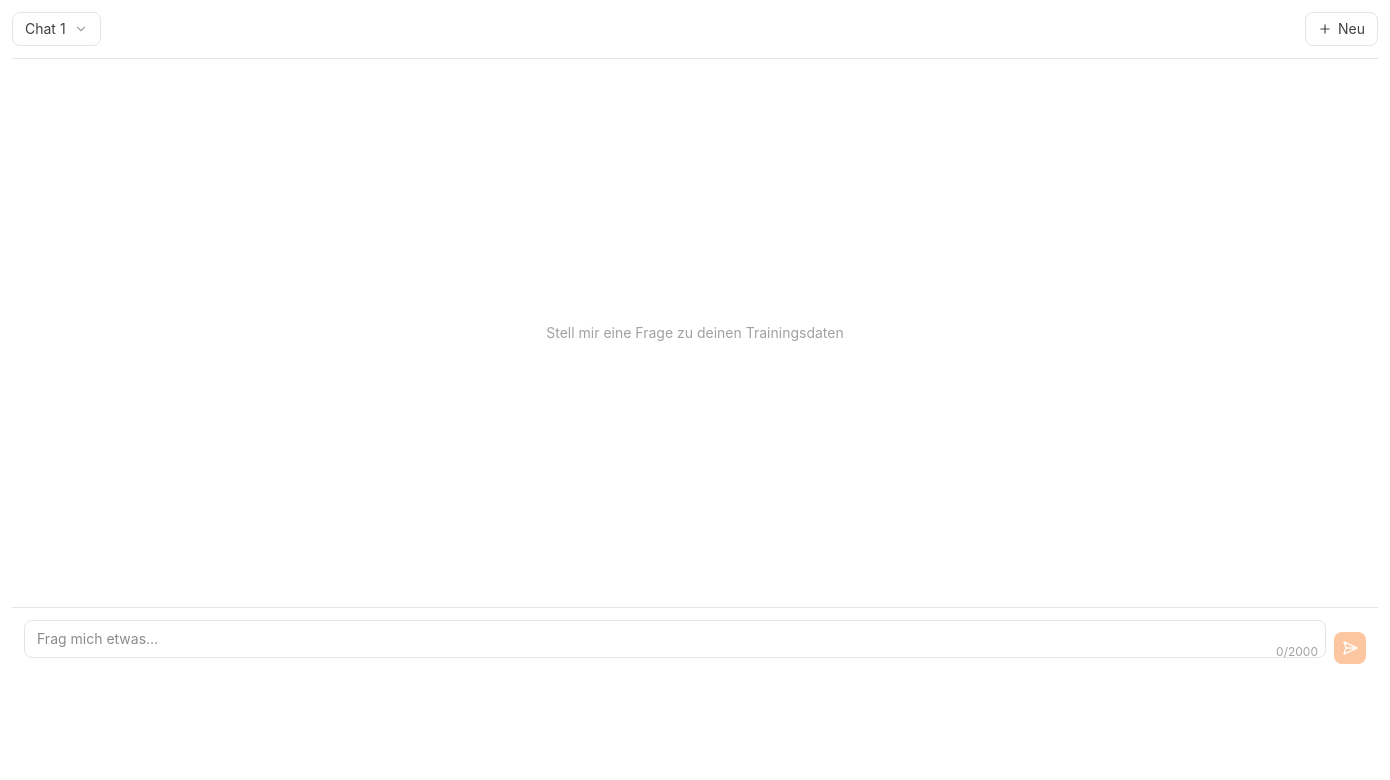
Test: ChatPage › shows loaded tools as a compact expandable summary
The width and height of the screenshot is (1390, 780).
In the text box with placeholder "Frag mich etwas…": (675, 639) [24,620,1326,658], type "Existiert ein Segment mit einem frei gewaehlten Testnamen?"
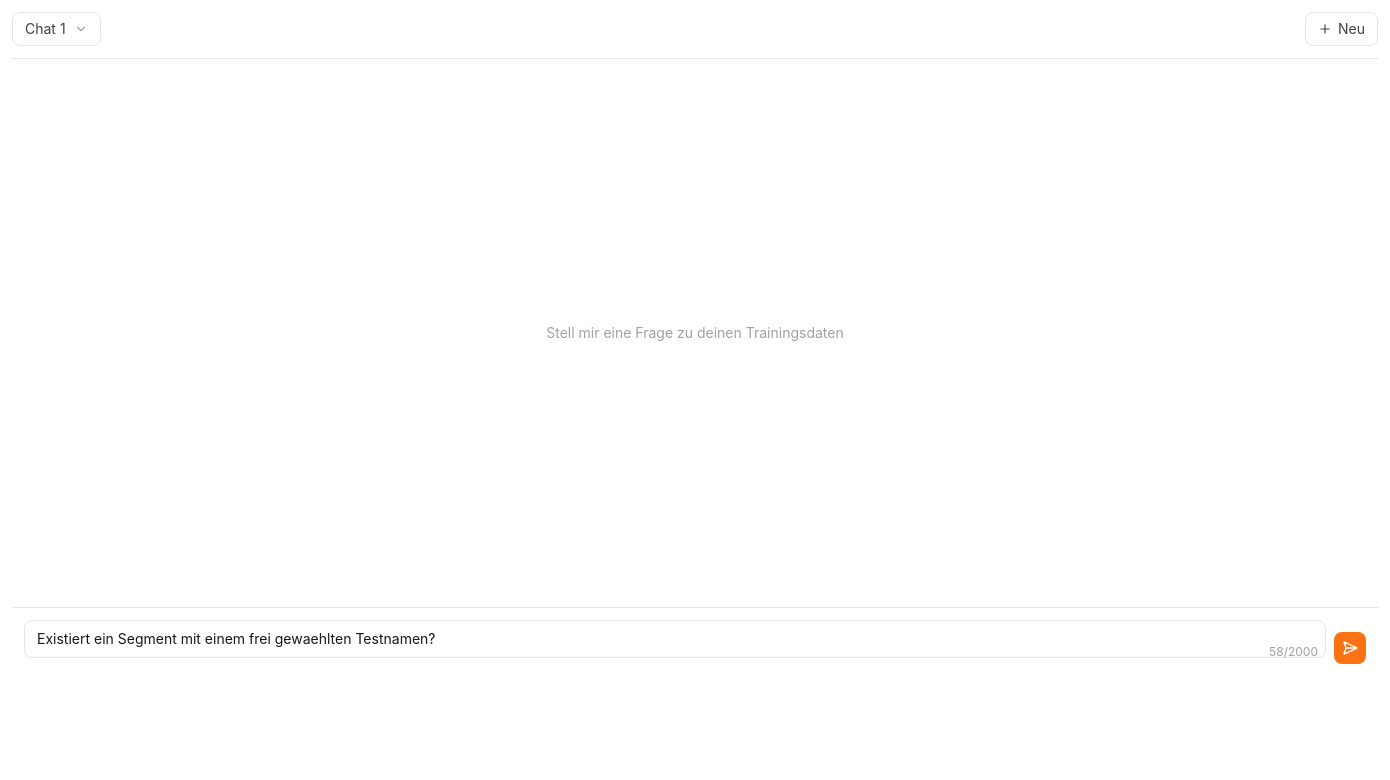
Press Enter in the text box with placeholder "Frag mich etwas…", box [24,620,1326,658]
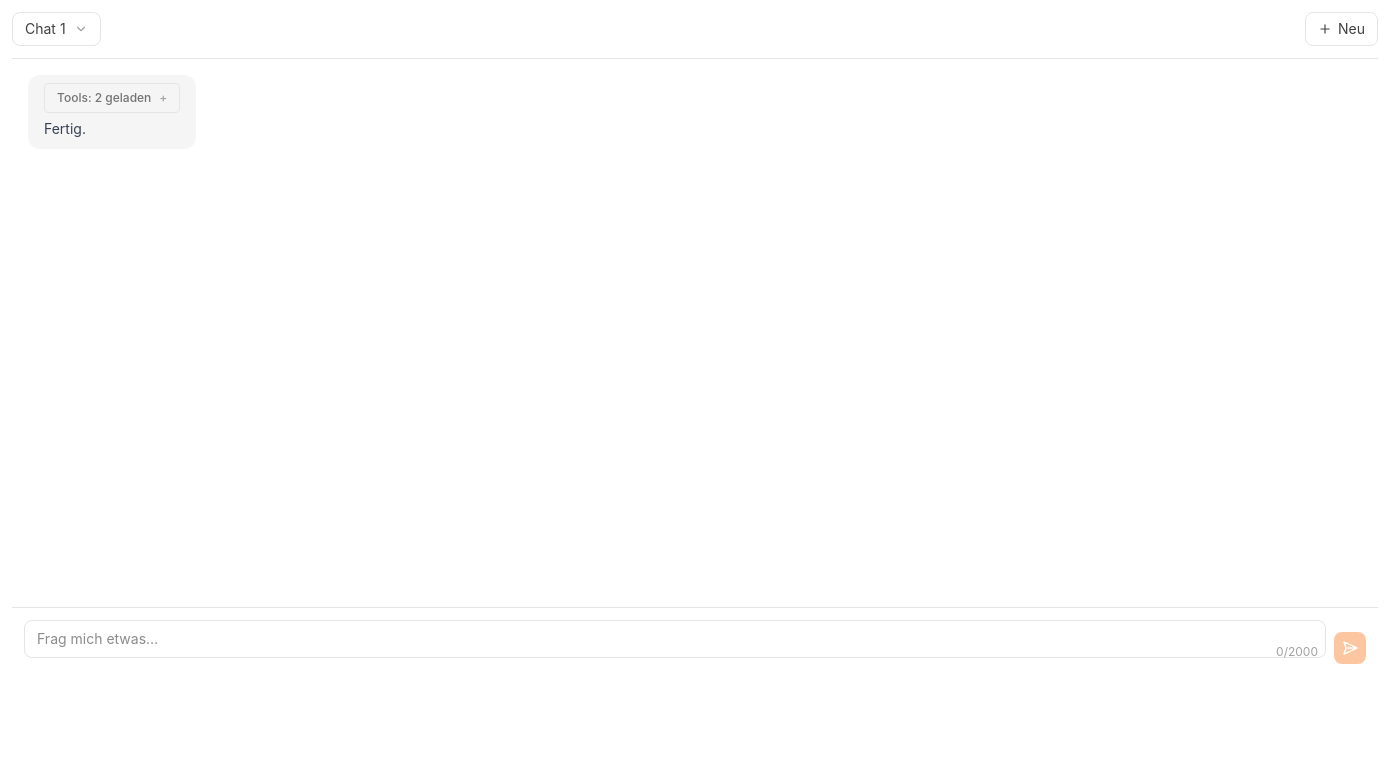
Check: the text "query_segments, resolve_entity" is not shown
Check: the button "Tools: 2 geladen +" is shown
Click the button "Tools: 2 geladen +": (112, 98) [45,84,179,112]
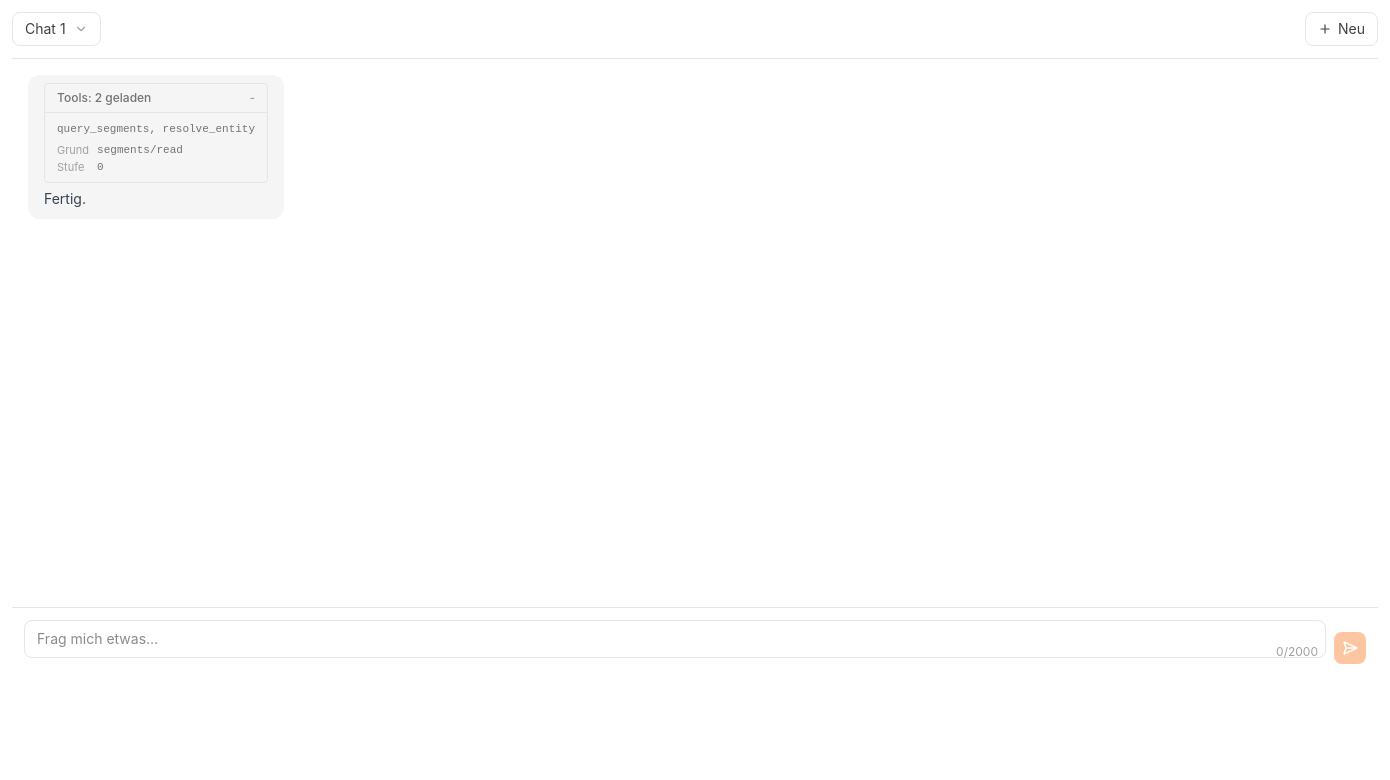
Check: the text "query_segments, resolve_entity" is shown, box [57,121,255,139]
